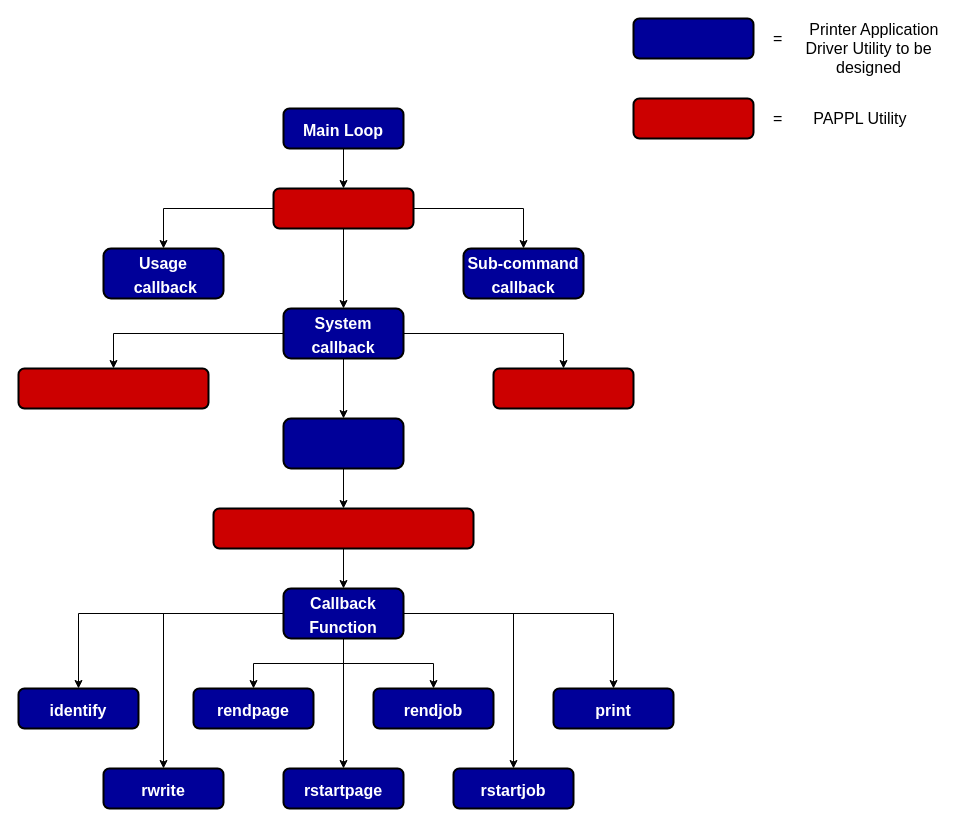
Some shapes in this 971 by 826 pixel diagram are drawn without their labels. The centre of each missing label's shape, as x and y in pixels:
"cupsGetOption" belongs at [563,388].
"Driver Setup Function" belongs at [343,443].
"papplMainLoop" belongs at [343,208].
"papplSystemCreate" belongs at [113,388].
"papplSystemSetPrintDrivers" belongs at [343,528].
